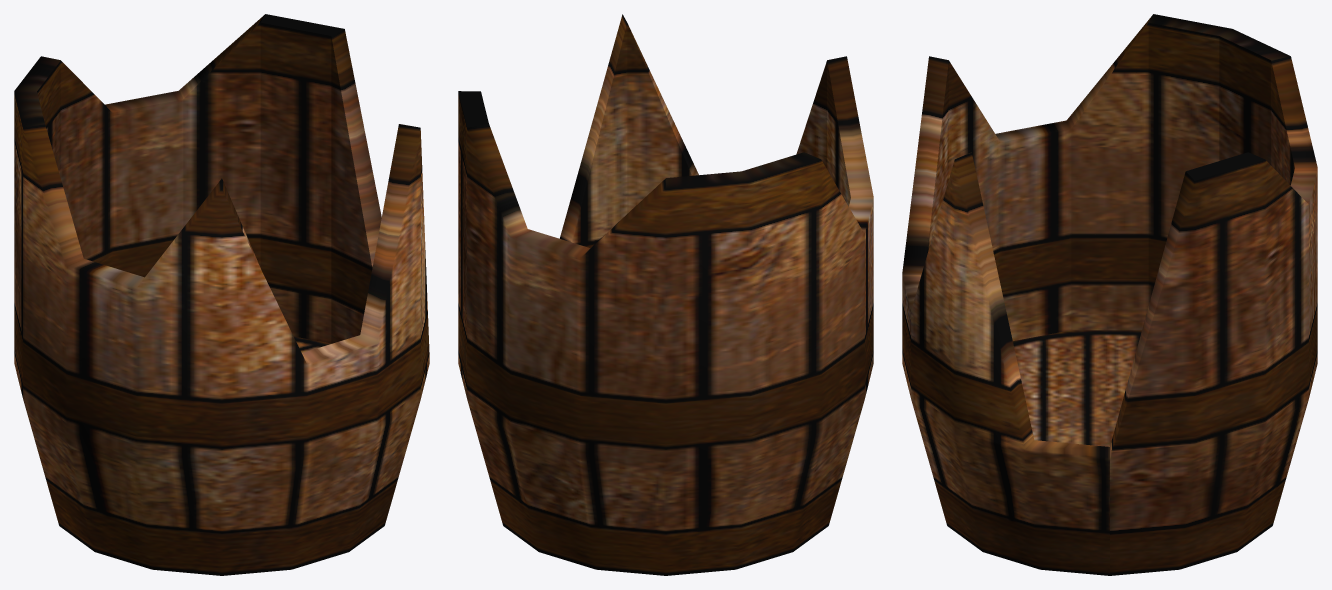
Rendered from Barrel_01_Broken.FBX.
3 renders of one model, left to right at view 1: azimuth 30°, elevation 25°; view 2: azimuth 150°, elevation 25°; view 3: azimuth 270°, elevation 25°, orthographic.
Visible parts, largest first — view 1: Cylinder001; view 2: Cylinder001; view 3: Cylinder001.
Part boxes in pixels (x1,y1,x2,y2): Cylinder001: (14, 14, 429, 575); Cylinder001: (458, 14, 873, 575); Cylinder001: (902, 14, 1317, 575).
Bounding box in the file's own units: 19.32 × 20.84 × 19.43.
